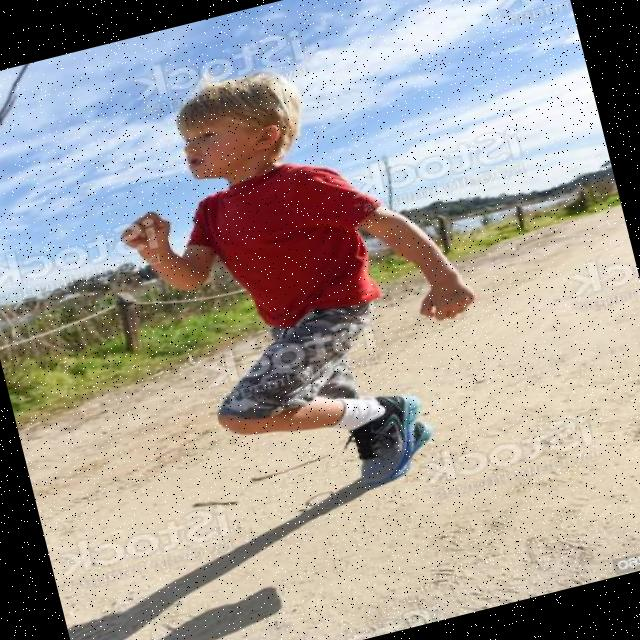Person: (92, 35, 514, 527)
